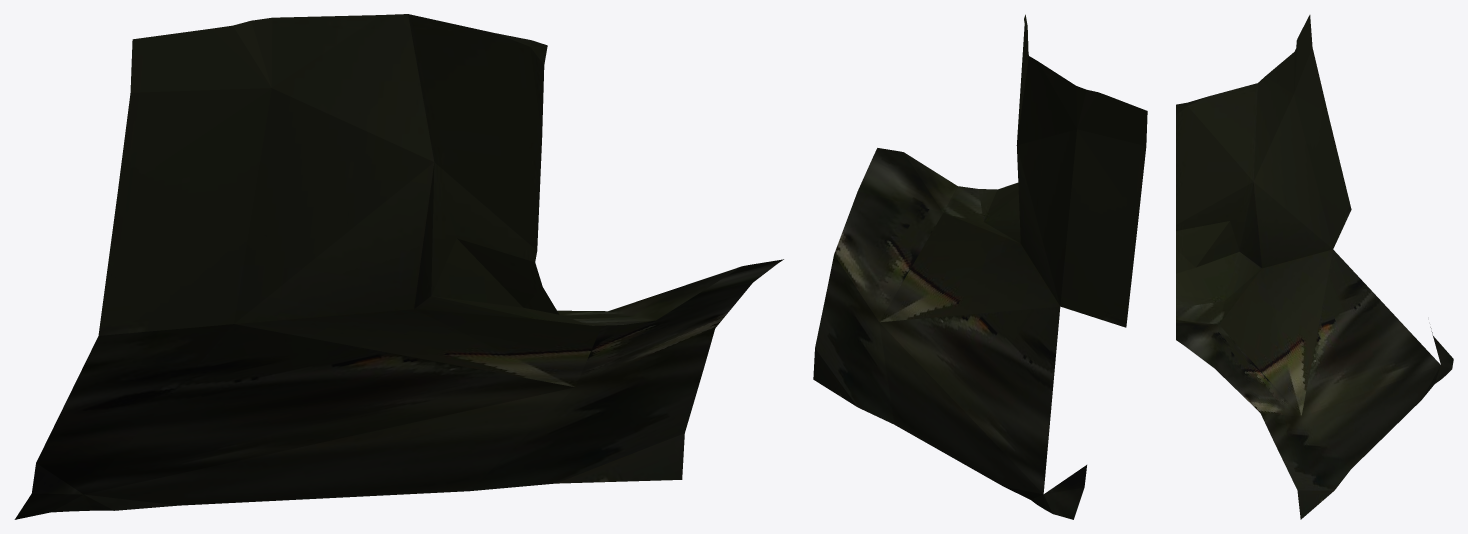
The picture shows the model from 3 angles, left to right: view 1: azimuth 30°, elevation 25°; view 2: azimuth 150°, elevation 25°; view 3: azimuth 270°, elevation 25°; orthographic projection. The views are drawn at different scales.
Bounding box in the file's own units: 0.8374 × 0.8374 × 0.6107.
3 materials, 3 textured.
